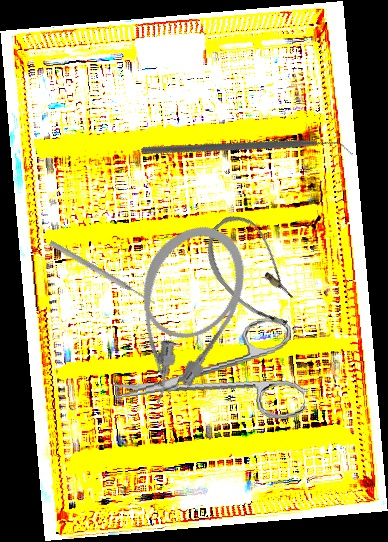Cannula: (100, 211, 262, 417), (189, 205, 320, 339)
Chopper: (139, 52, 355, 253)
Iris Scissors: (107, 313, 307, 440)
Pusher: (48, 239, 157, 307)
